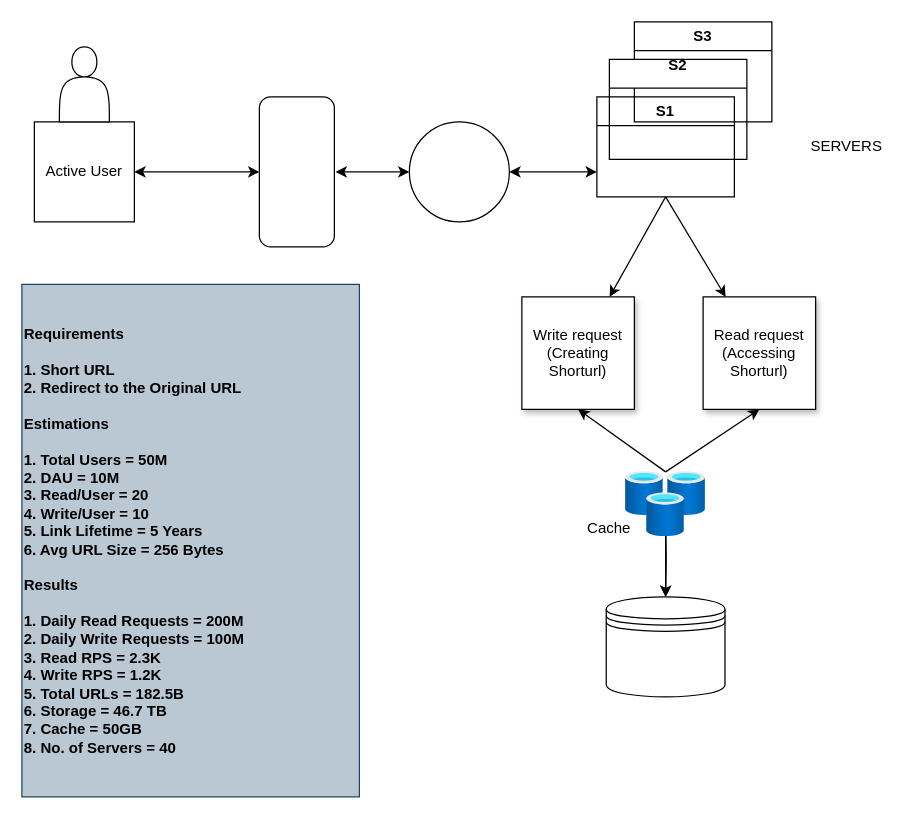
This 906x819 diagram has some shape labels left out. The centre of each missing label's shape, as x and y in pixels:
"API GATE" belongs at (296,171).
"LOAD BALANCER" belongs at (458,171).
"MAIN DATABASE" belongs at (665,646).
